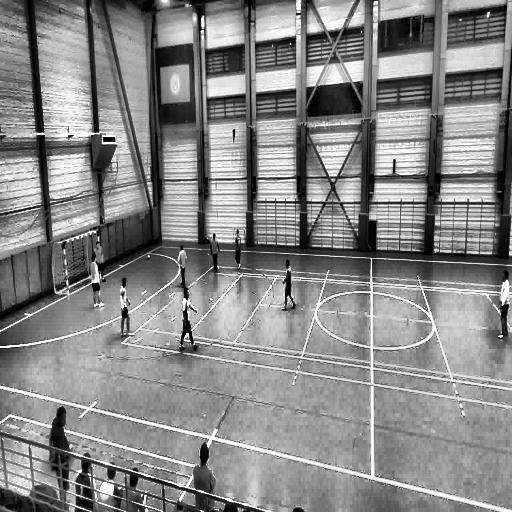ball: (146, 253, 153, 262)
player: (48, 407, 71, 506), (180, 286, 198, 352), (497, 268, 511, 338), (90, 255, 104, 308), (284, 259, 298, 310), (120, 277, 131, 338), (93, 240, 108, 280), (177, 244, 187, 288), (210, 232, 220, 272), (233, 229, 242, 268)
